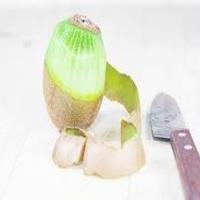biodegradable: (42, 13, 106, 131), (51, 126, 148, 178)
